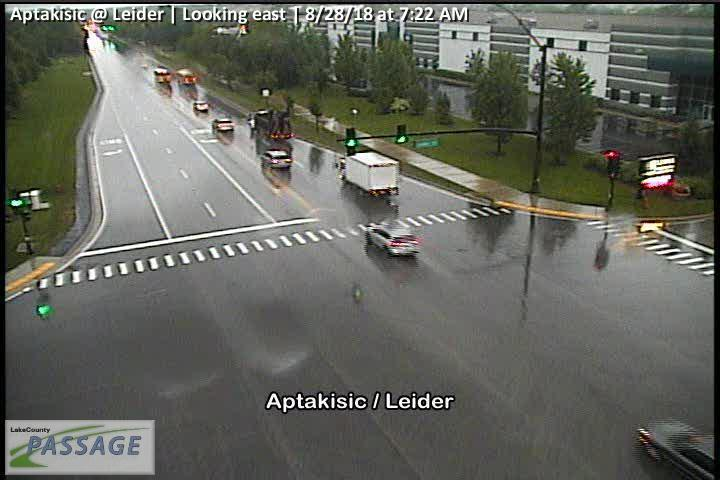Sedan: (638, 419, 716, 480), (364, 223, 420, 256), (260, 149, 291, 168), (212, 118, 234, 132), (194, 100, 209, 111)
Truck: (335, 150, 401, 198), (250, 110, 292, 141), (175, 70, 199, 85), (152, 68, 172, 83)
